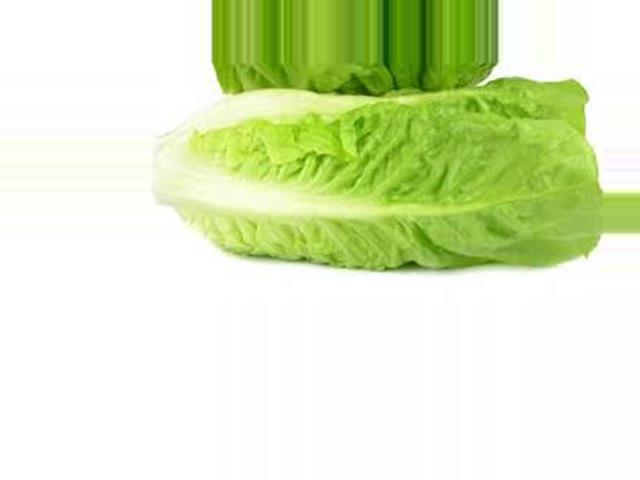lettuce: (152, 85, 605, 300)
